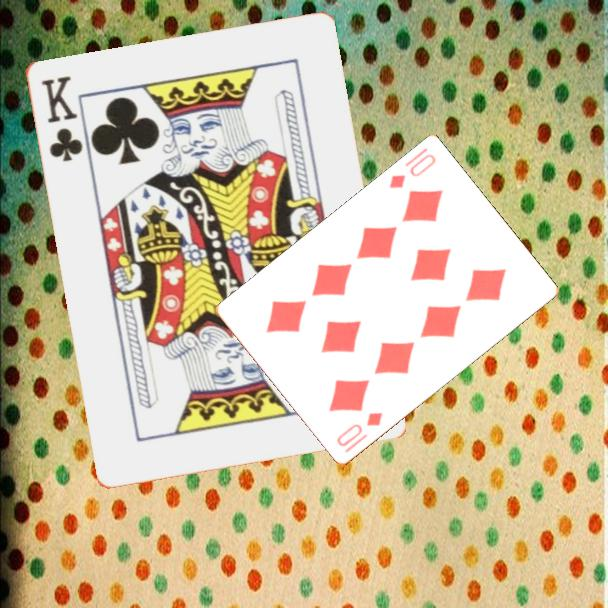c13: (37, 72, 85, 165)
d10: (386, 144, 439, 192), (333, 409, 385, 450)
